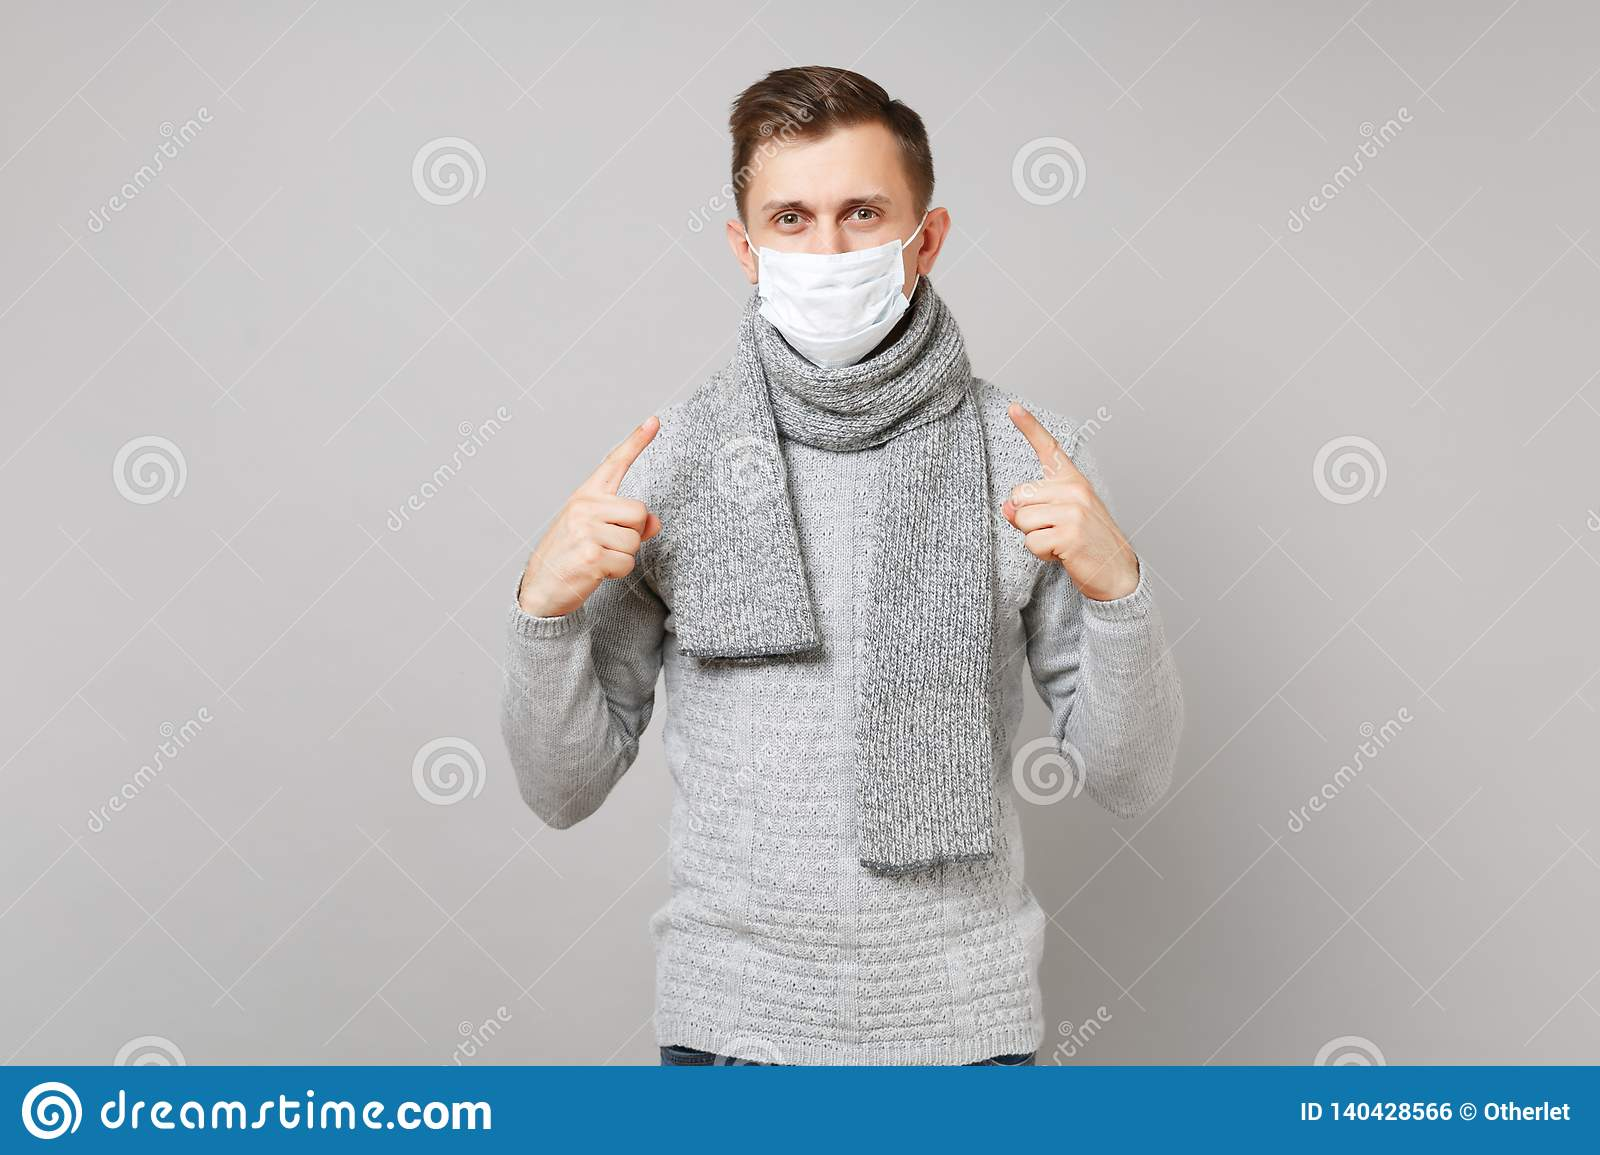mask: (757, 248, 912, 364)
